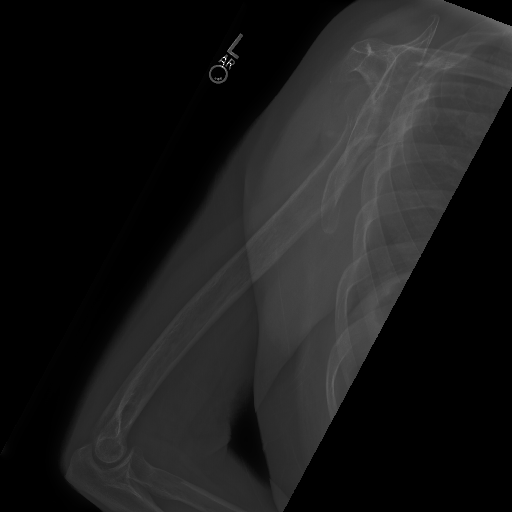fracture: (300, 9, 404, 223)
